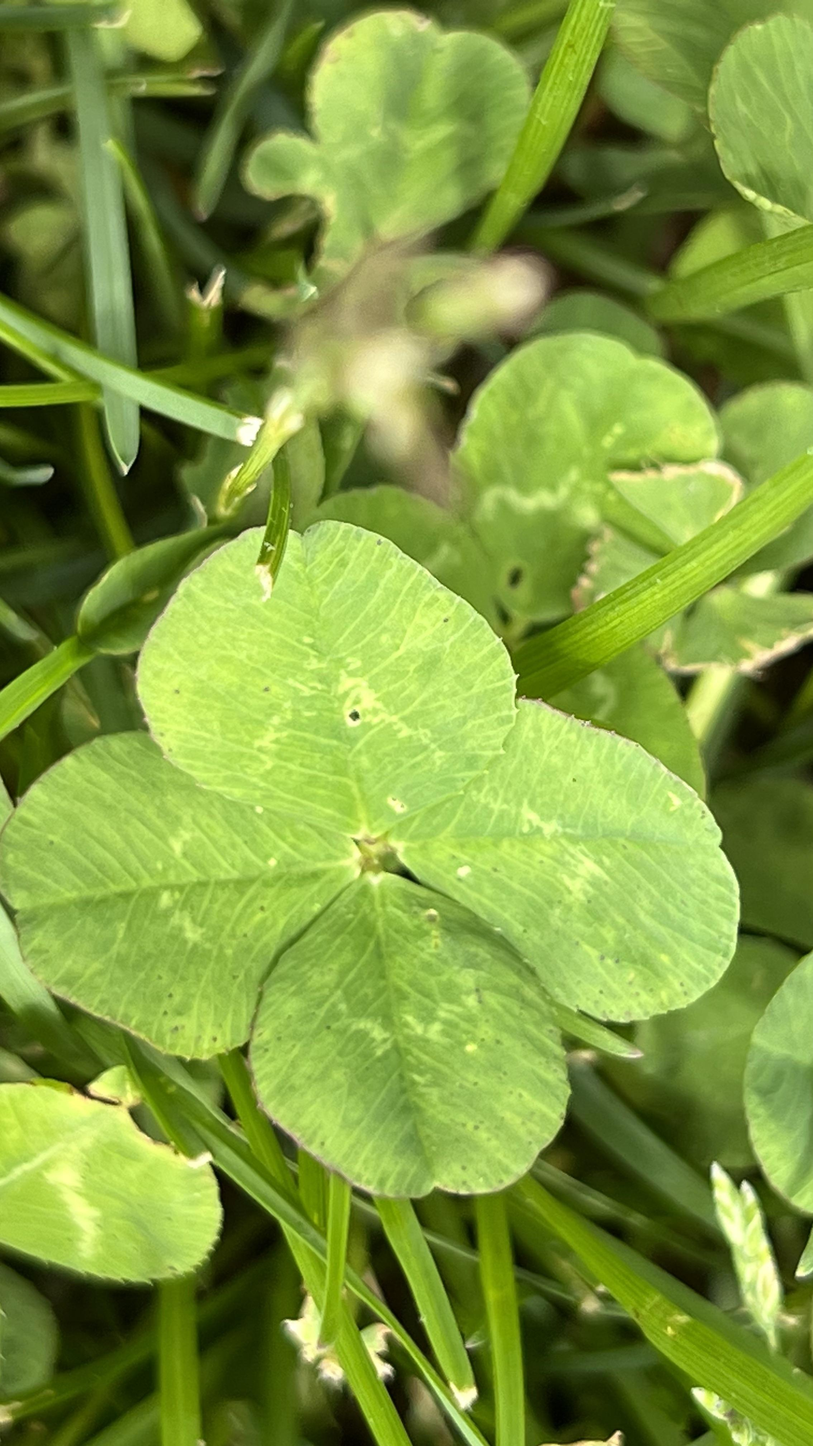4-Leaf-Clovers: (290, 132, 673, 1425)
